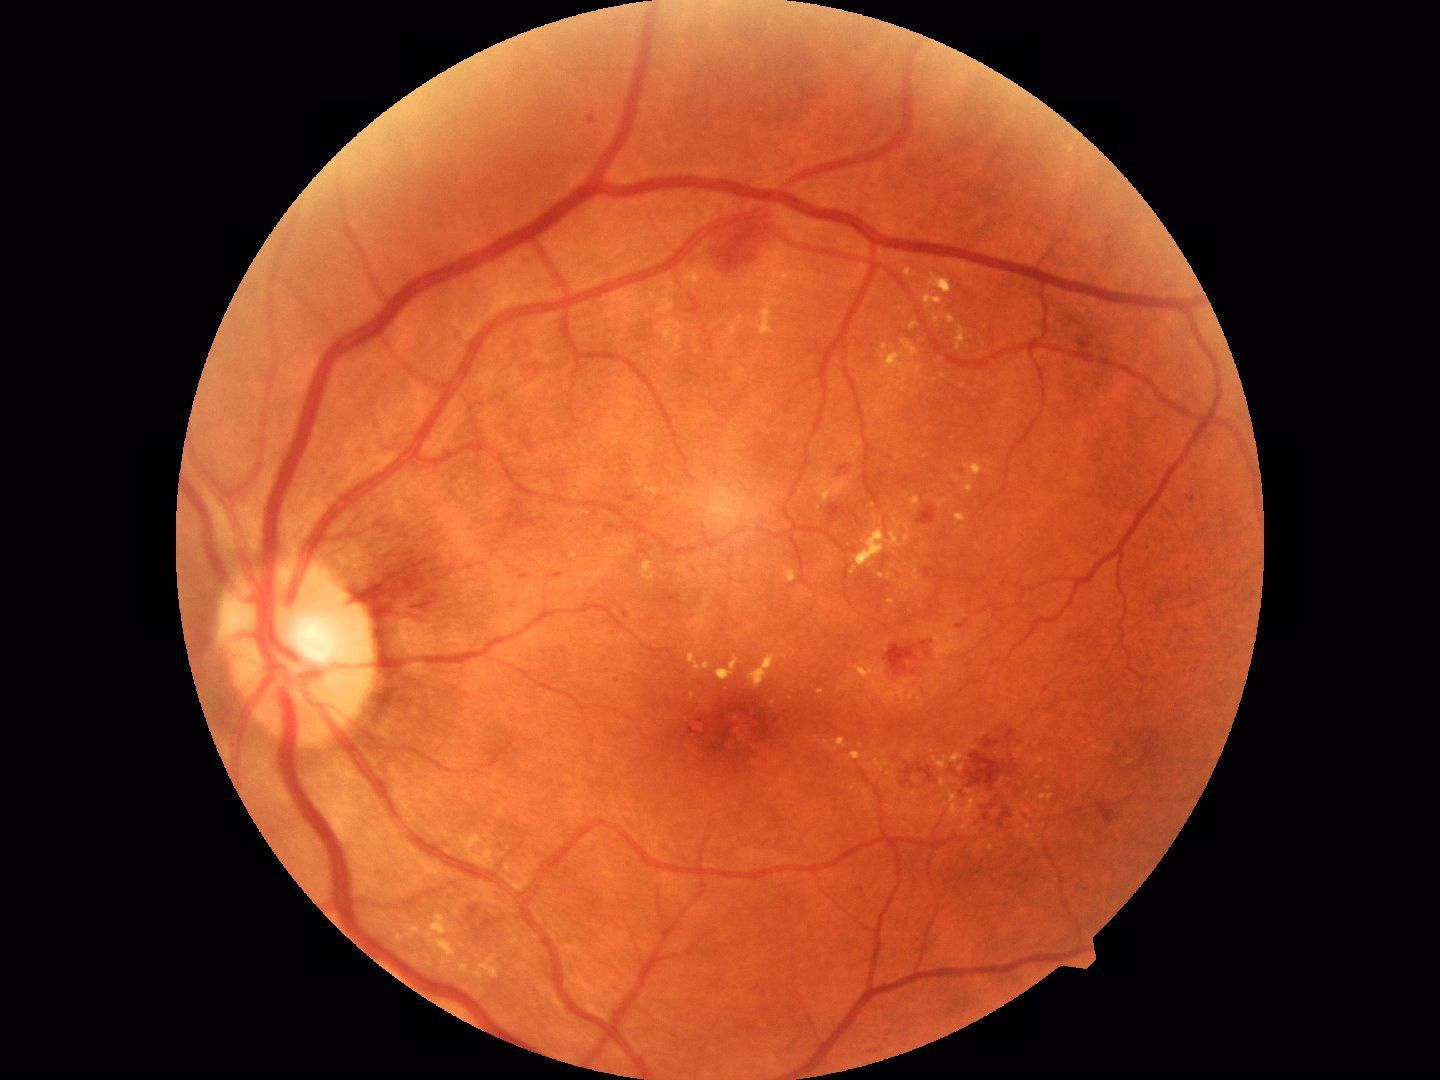Exudates: (926, 746, 1058, 821), (903, 263, 966, 370), (695, 642, 781, 692), (853, 513, 893, 576)
Microaneurysms: (871, 630, 964, 689), (1048, 295, 1113, 376), (687, 708, 781, 758)
Optic-Disc: (213, 556, 386, 749)
Venules: (334, 226, 503, 404)
